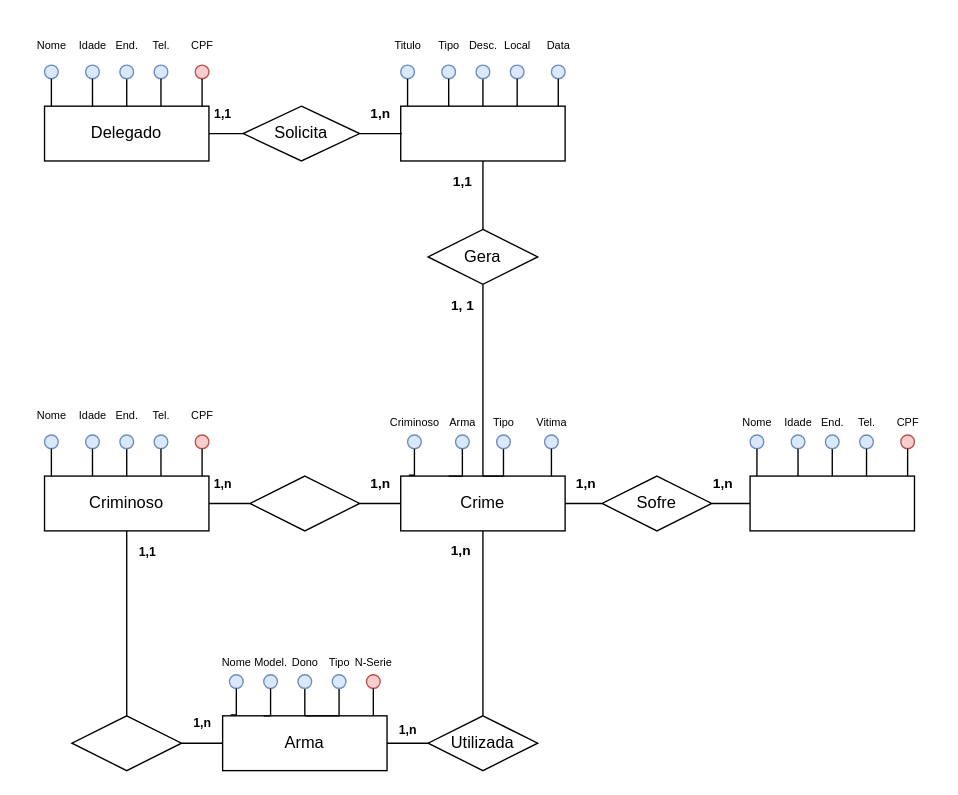
The diagram is 958 pixels wide and 795 high, and some of its shapes have lost their labels. Here are the shapes that lost their labels. From the top down, the centre of each, then its label:
[482,133]: Relatório
[304,503]: Comete
[831,503]: Vitimas
[126,742]: Tem
